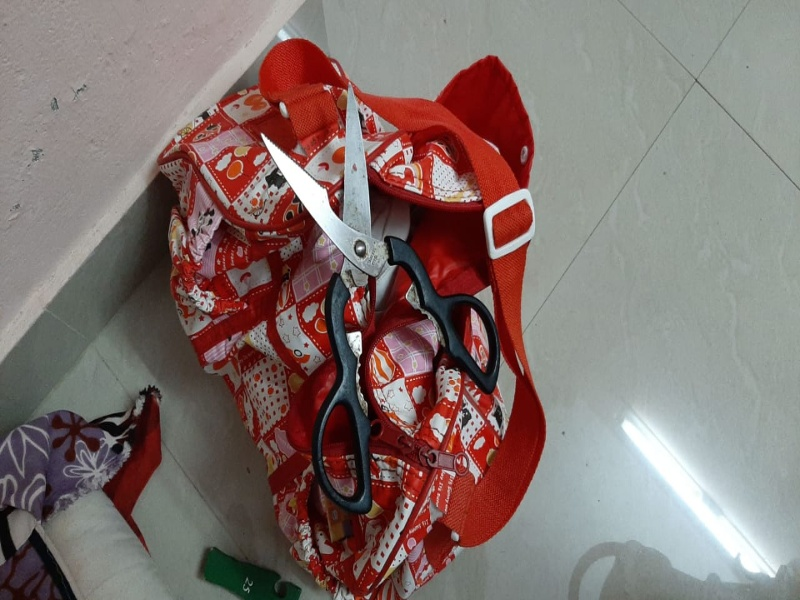scissor: (256, 80, 499, 511)
